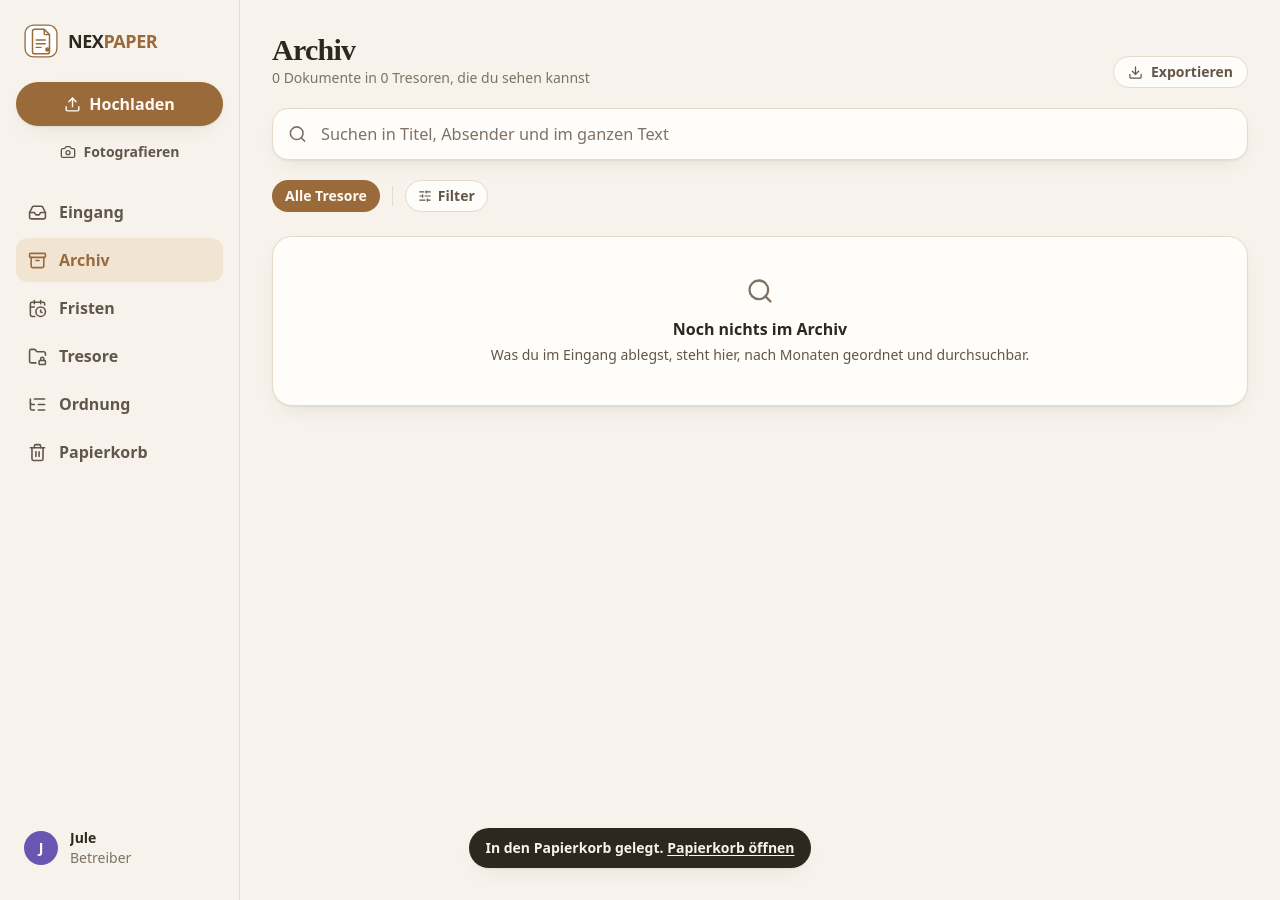
Test: the sentence after something was done › can lead on: "Papierkorb öffnen" opens the trash
expect the message "In den Papierkorb gelegt. Papierkorb öffnen" is shown: met, box [469, 828, 810, 868]
Click the link "Papierkorb öffnen": (731, 848) [667, 838, 795, 857]
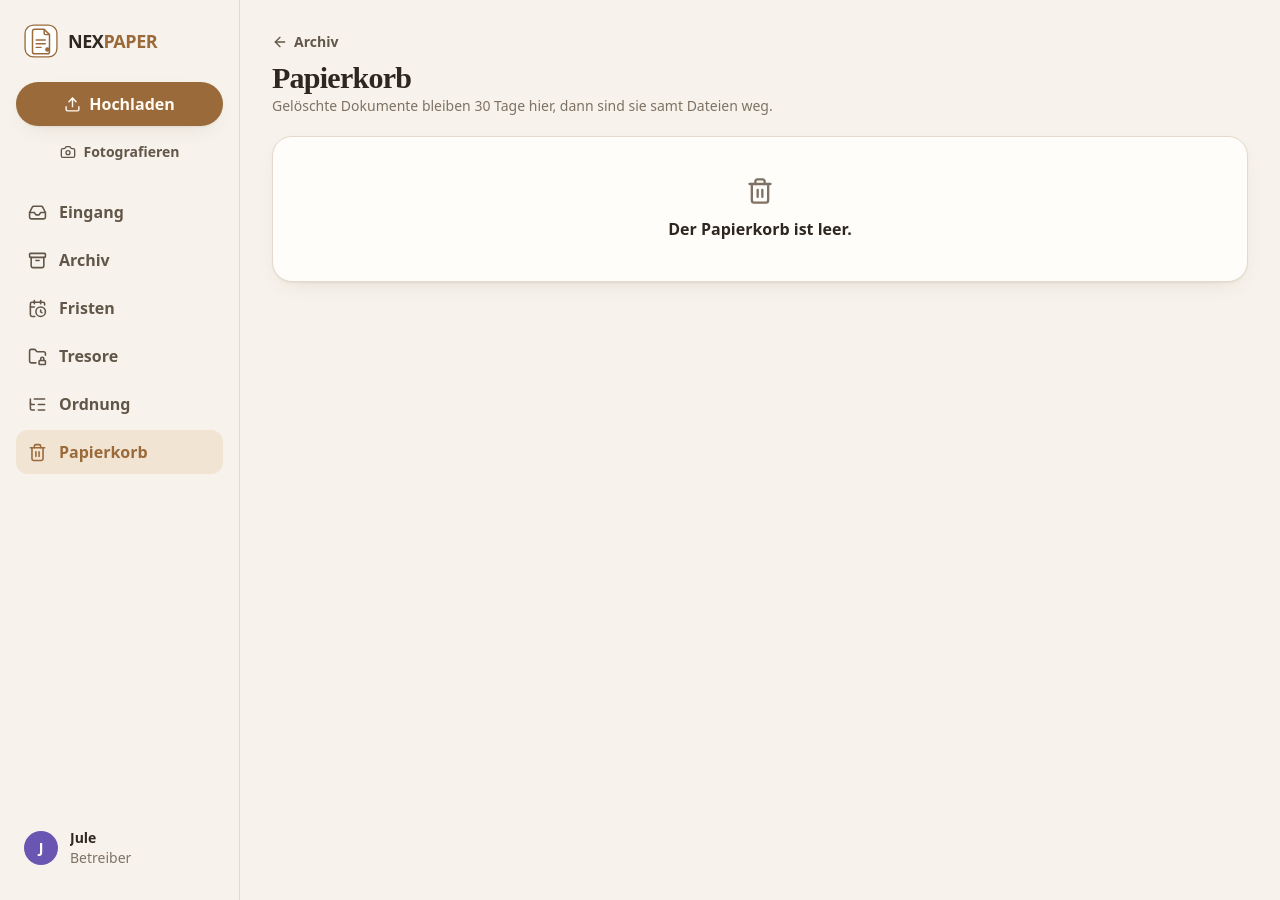
expect the heading "Papierkorb" is shown: met, box [272, 61, 411, 94]
